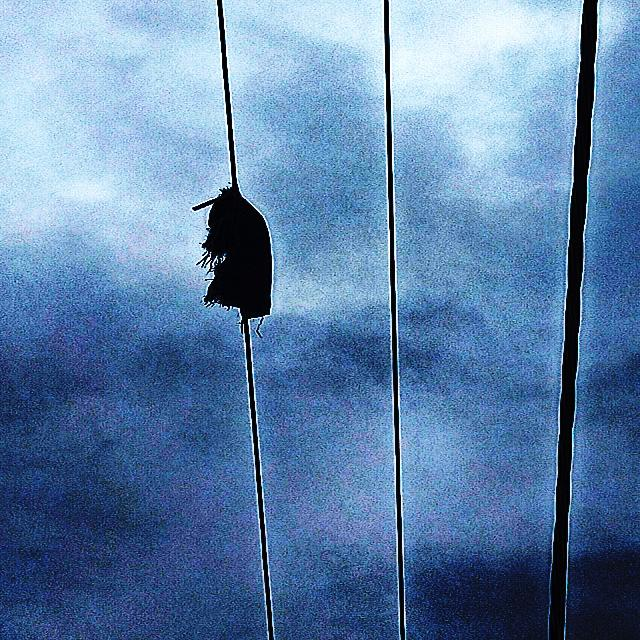obstruction: (182, 177, 285, 328)
wires: (531, 6, 604, 631), (375, 2, 428, 639), (238, 328, 282, 640), (210, 5, 246, 176)
